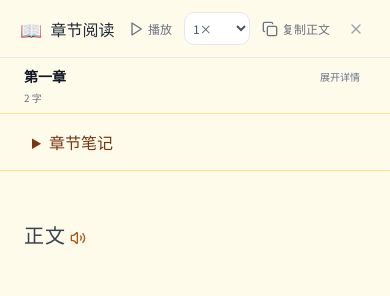
it: NodeDetailDrawer › collapses chapter characters and elements together in App mode
Click the button "展开详情" at (340, 76), box [314, 66, 366, 86]
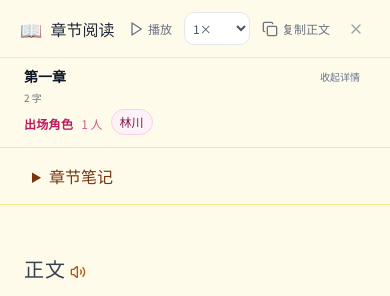
Check: the text "林川" is shown, box [120, 114, 144, 130]
Click the button "收起详情" at (340, 76), box [314, 66, 366, 86]
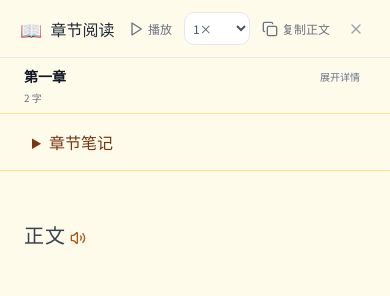
Check: the button "林川" is gone
Check: the button "展开详情" is shown, box [314, 66, 366, 86]
